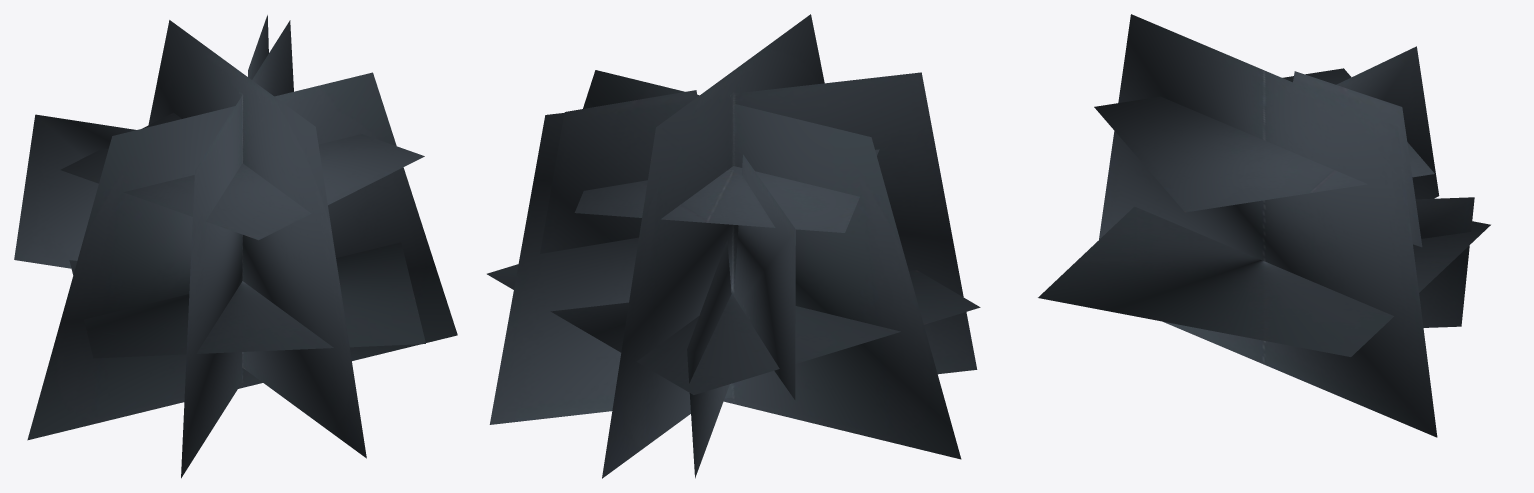
The model's file is park-canopy-one-unit-tripo-original.glb.
3 renders of one model, left to right at view 1: azimuth 30°, elevation 25°; view 2: azimuth 150°, elevation 25°; view 3: azimuth 270°, elevation 25°, orthographic. The views are drawn at different scales.
Parts seen in each view (by area): view 1: Authored_surface; view 2: Authored_surface; view 3: Authored_surface.
Part boxes in pixels (<box>): Authored_surface: <box>14,15,457,478</box>; Authored_surface: <box>487,14,980,478</box>; Authored_surface: <box>1038,14,1490,437</box>.
Bounding box in the file's own units: 1 × 0.6984 × 1.
Materials: 1 (1 with a texture image).
